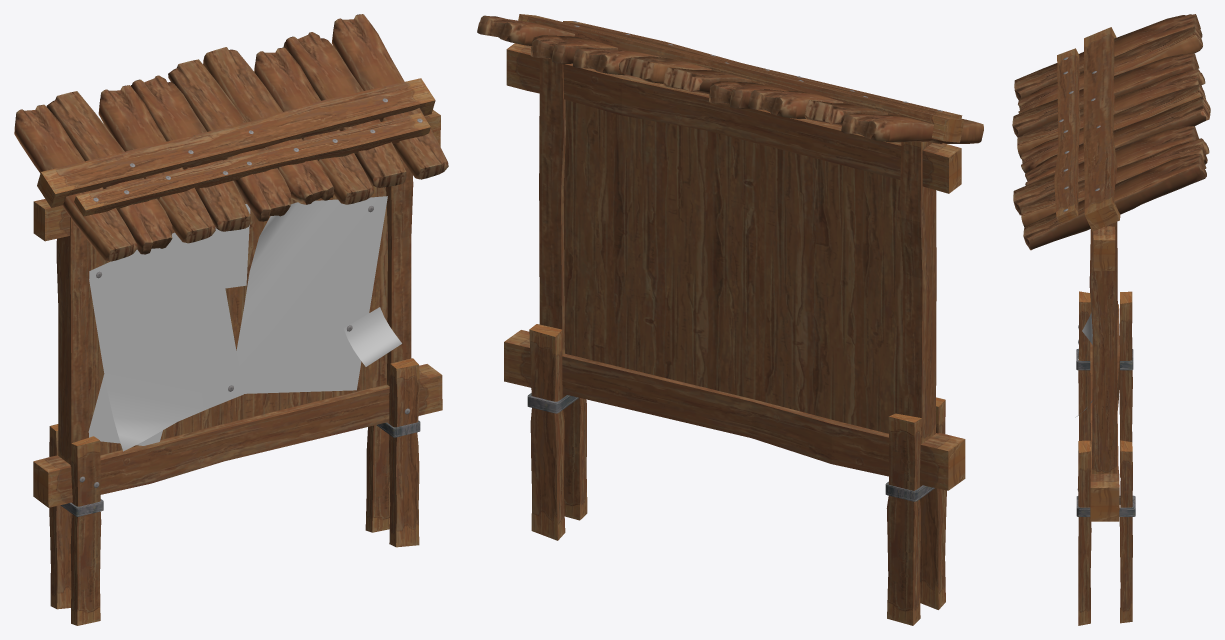
Rendered from SM_Farm_Bildoard_02.fbx.
3 views of the same model, side by side, from view 1: azimuth 30°, elevation 25°; view 2: azimuth 150°, elevation 25°; view 3: azimuth 270°, elevation 25° (orthographic). The views are drawn at different scales.
Visible parts, largest first — view 1: SM_Farm_Bildoard_02_LOD0; view 2: SM_Farm_Bildoard_02_LOD0; view 3: SM_Farm_Bildoard_02_LOD0.
Part boxes in pixels (bbox=[...]): SM_Farm_Bildoard_02_LOD0: bbox=[14, 14, 448, 625]; SM_Farm_Bildoard_02_LOD0: bbox=[477, 14, 983, 625]; SM_Farm_Bildoard_02_LOD0: bbox=[1012, 14, 1210, 625].
Size of the model in its own units: 219 by 257 by 99.48.
